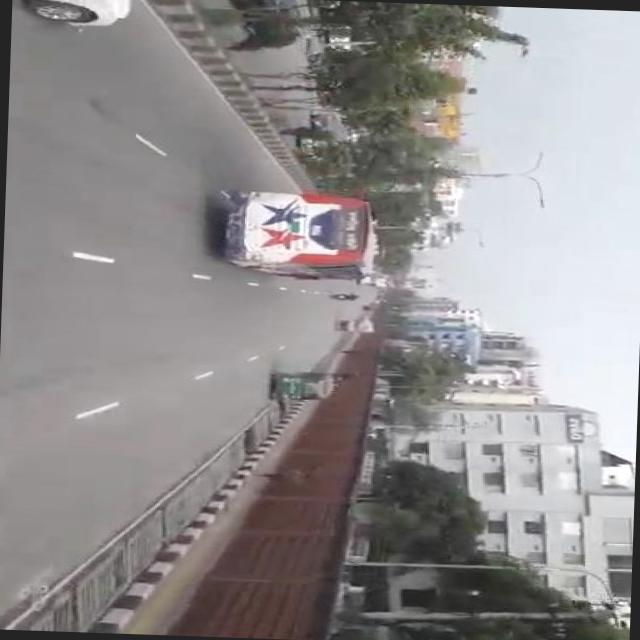bus: (224, 191, 381, 283)
car: (31, 0, 137, 30)
motorcycle: (274, 370, 338, 402), (331, 294, 353, 304)
